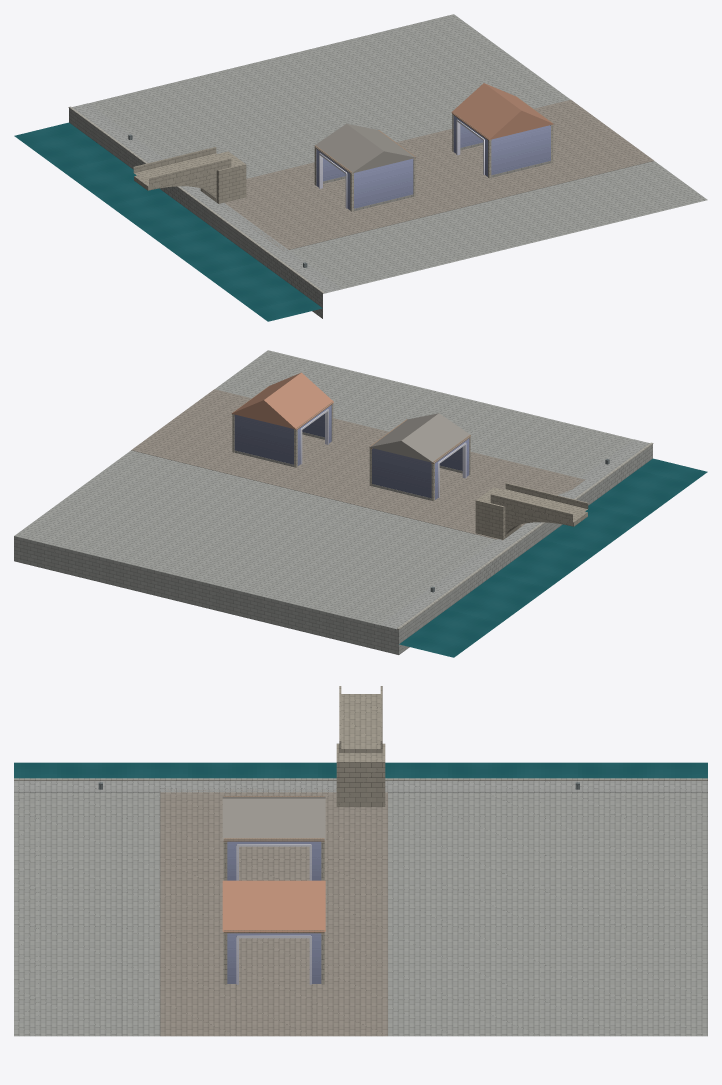
File: canal-1-0.glb
The picture shows the model from 3 angles, top to bottom: view 1: azimuth 30°, elevation 25°; view 2: azimuth 150°, elevation 25°; view 3: azimuth 270°, elevation 25°; orthographic projection. The views are drawn at different scales.
Visible parts, largest first — view 1: canal-1-0; view 2: canal-1-0; view 3: canal-1-0.
Part boxes in pixels (<box>): canal-1-0: <box>14,14,707,321</box>; canal-1-0: <box>14,350,707,657</box>; canal-1-0: <box>14,686,707,1036</box>.
Size of the model in its own units: 128 by 23.8 by 128.
24 materials, 24 textured.
